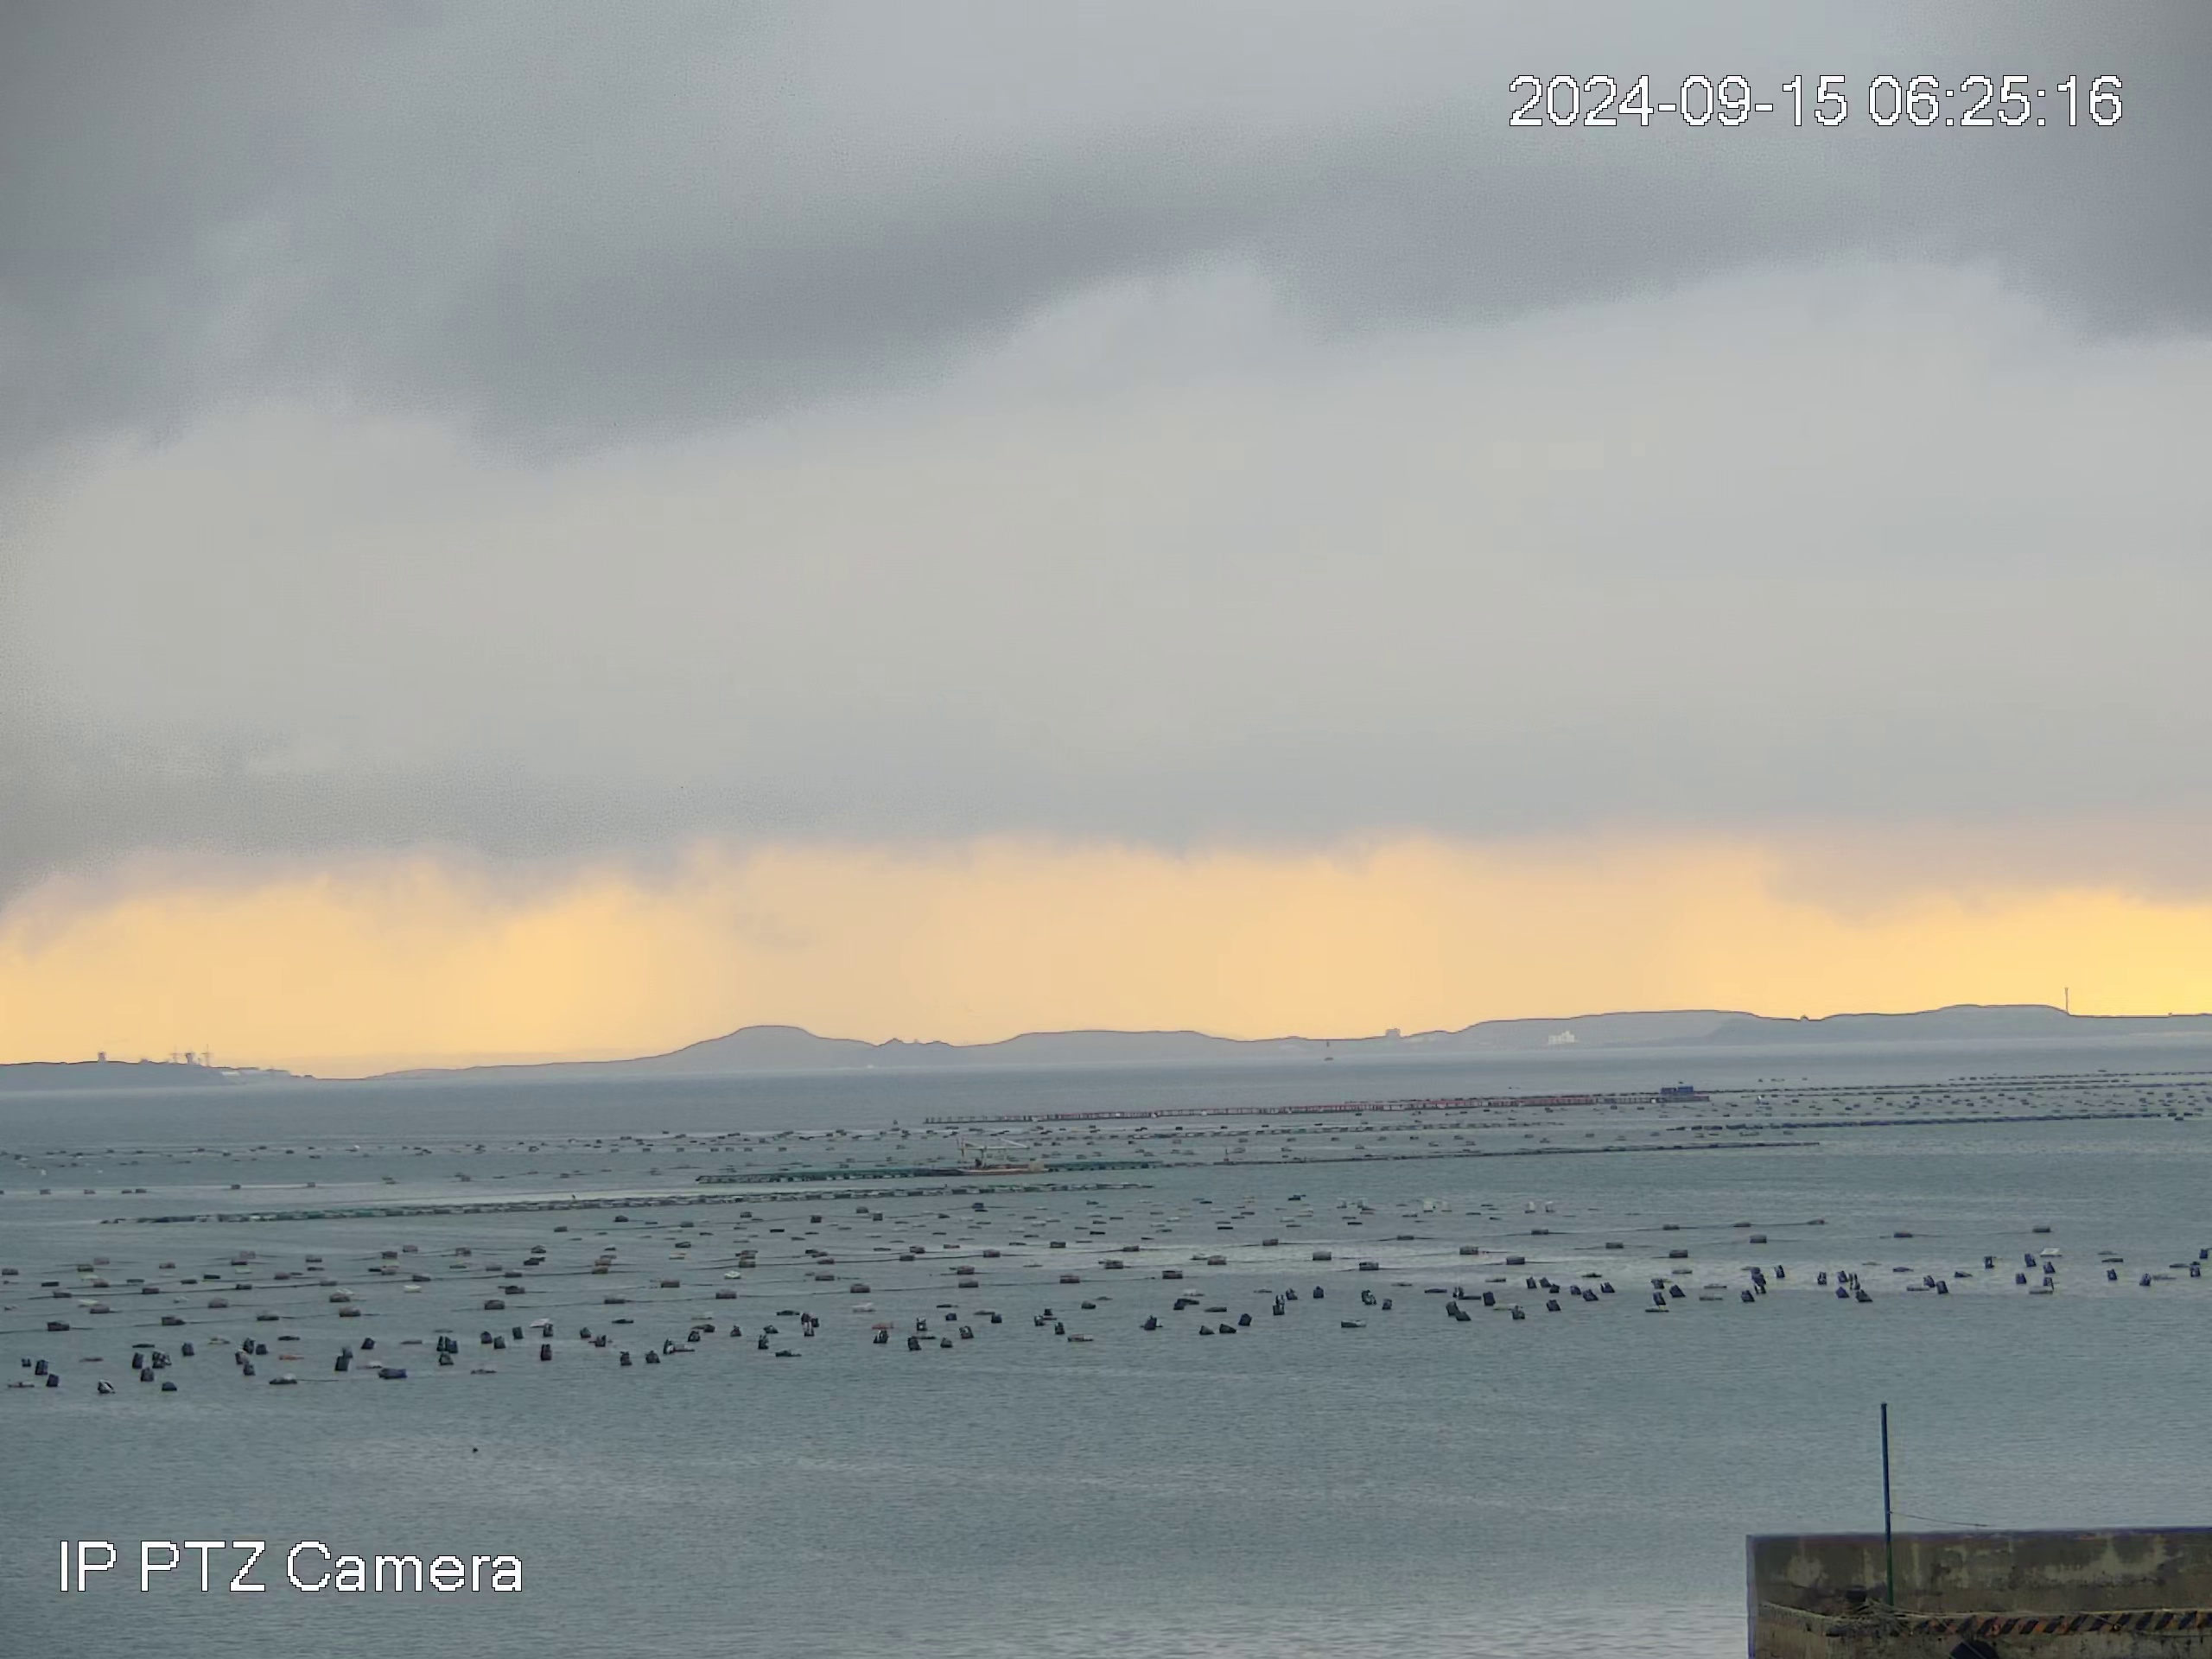boat: (950, 1134, 1052, 1178)
